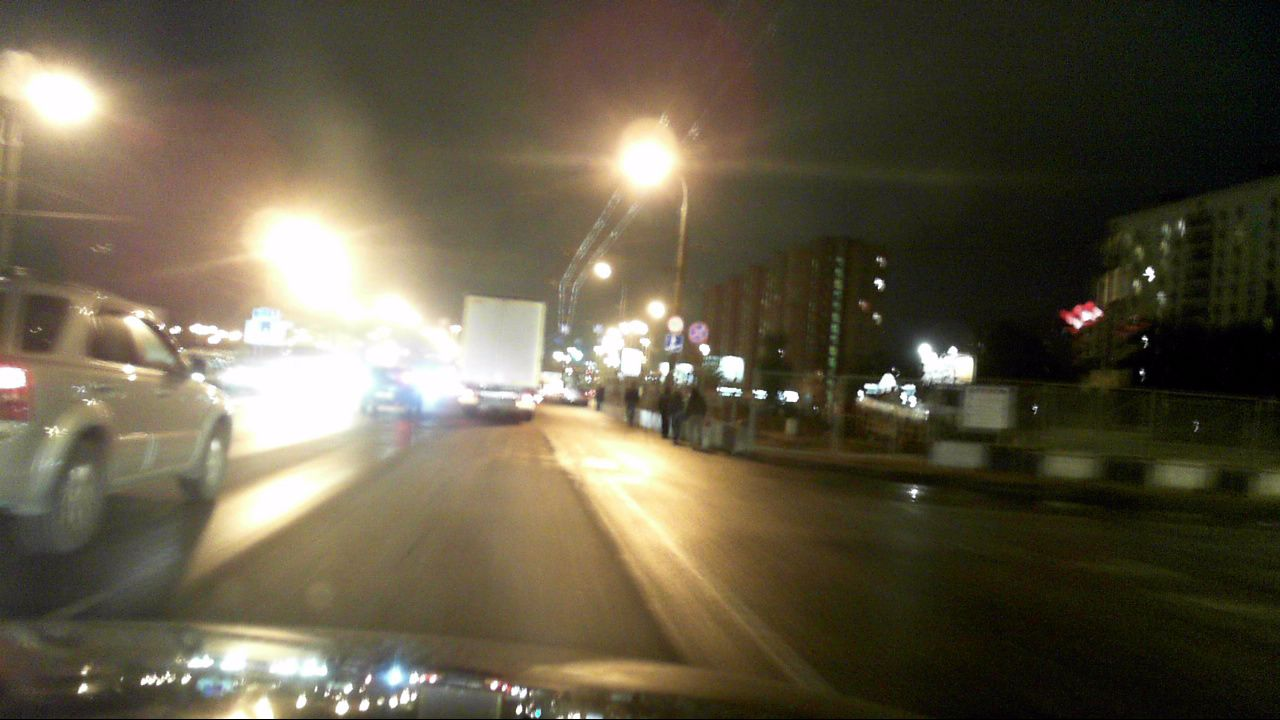No Parking: (687, 321, 707, 344)
